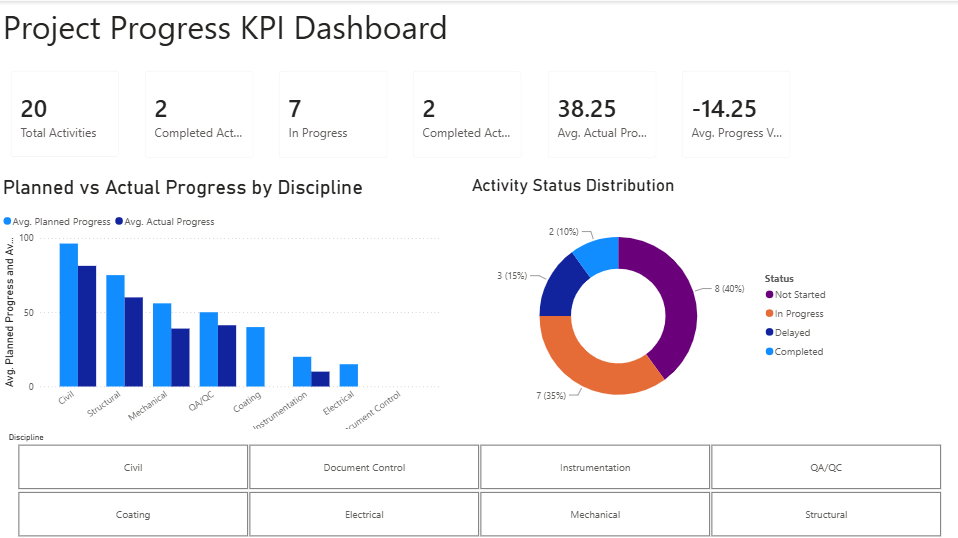

What the dashboard file says about the page in this screenshot:
{"tool":"powerbi","page":{"name":"Page 1","canvas":[1280,720],"ordinal":0},"visuals":[{"type":"cardVisual","fields":{"Data":["Project Progress.Total Activities"]},"box":[-1.7,76.6,179,149.8],"z":0},{"type":"cardVisual","fields":{"Data":["Project Progress.Completed Activities"]},"box":[177.3,76.6,179,150],"z":1000},{"type":"cardVisual","fields":{"Data":["Project Progress.In Progress"]},"box":[356.3,76.6,179,150],"z":2000},{"type":"cardVisual","fields":{"Data":["Project Progress.Completed Activities"]},"box":[535.2,76.6,179,150],"z":3000},{"type":"cardVisual","fields":{"Data":["Project Progress.Avg. Actual Progress"]},"box":[714.2,76.6,179,150],"z":4000},{"type":"cardVisual","fields":{"Data":["Project Progress.Avg. Progress Variance"]},"box":[893.2,76.6,179,150],"z":5000},{"type":"textbox","box":[0,0,771.6,81.7],"z":5001},{"type":"clusteredColumnChart","title":"Planned vs Actual Progress by Discipline","fields":{"Category":["Project Progress.Discipline"],"Y":["Project Progress.Avg. Planned Progress","Project Progress.Avg. Actual Progress"]},"box":[0,231.5,596.1,387.3],"z":5002},{"type":"donutChart","title":"Activity Status Distribution","fields":{"Category":["Project Progress.Status"],"Y":["CountNonNull(Project Progress.Activity_ID)"]},"box":[624.9,231.5,491.7,338.9],"z":5003},{"type":"slicer","fields":{"Values":["Project Progress.Discipline"]},"box":[0,570.4,1280,149.8],"z":5004}]}

Visuals, with their boxes in screenshot pixels (x1, y1, x2, y2), scaled from the page's 1280x720 canvas onto the 958x538 screenshot:
cardVisual - Project Progress.Total Activities: BBox(0, 57, 133, 169)
cardVisual - Project Progress.Completed Activities: BBox(133, 57, 267, 169)
cardVisual - Project Progress.In Progress: BBox(267, 57, 401, 169)
cardVisual - Project Progress.Completed Activities: BBox(401, 57, 535, 169)
cardVisual - Project Progress.Avg. Actual Progress: BBox(535, 57, 669, 169)
cardVisual - Project Progress.Avg. Progress Variance: BBox(669, 57, 802, 169)
textbox: BBox(0, 0, 577, 61)
"Planned vs Actual Progress by Discipline" clusteredColumnChart: BBox(0, 173, 446, 462)
"Activity Status Distribution" donutChart: BBox(468, 173, 836, 426)
slicer - Project Progress.Discipline: BBox(0, 426, 957, 537)
